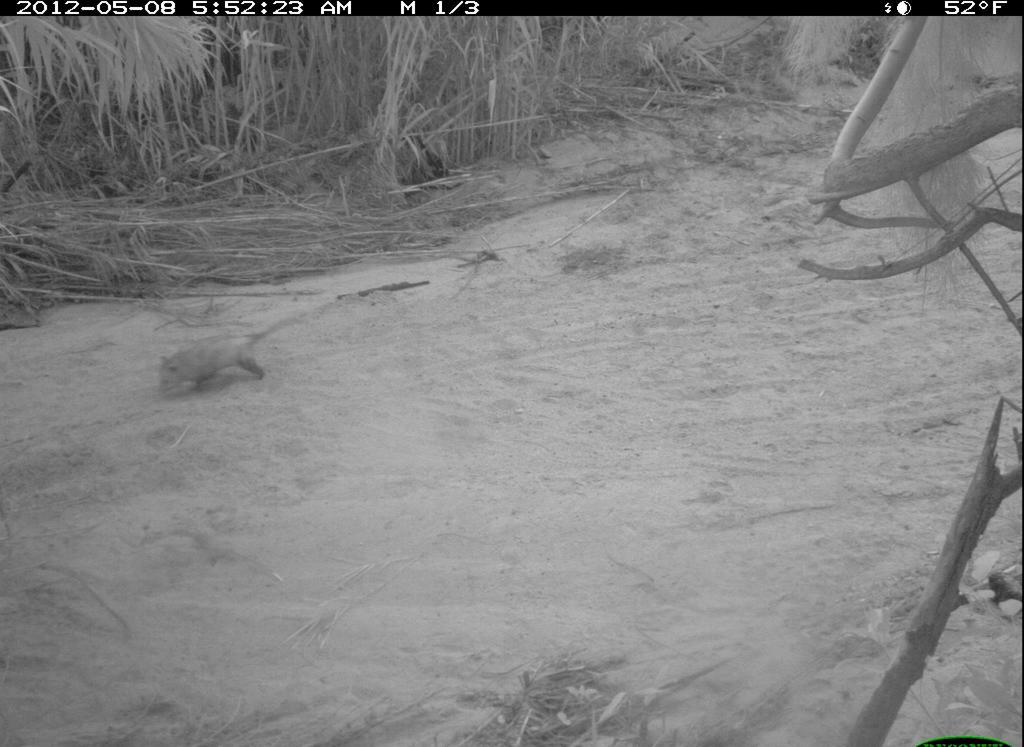opossum: (149, 305, 292, 402)
